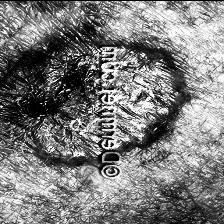Potentially Malignant Skin Tumors: (14, 43, 174, 170)
